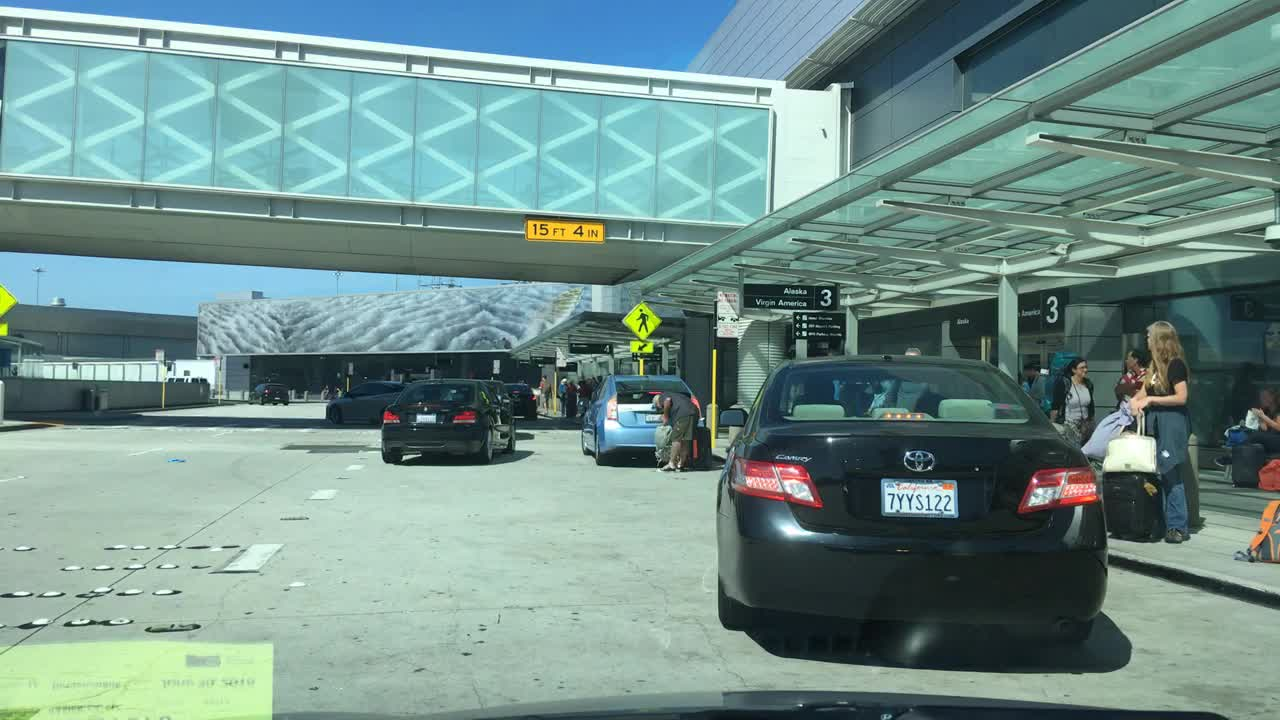car: (714, 352, 1104, 655), (380, 376, 521, 466), (576, 370, 704, 464), (323, 380, 406, 426), (503, 376, 538, 422), (242, 378, 289, 407)
person: (1123, 309, 1193, 543), (1211, 386, 1275, 463), (644, 384, 701, 469), (1057, 353, 1101, 453), (1112, 341, 1155, 421), (1014, 355, 1050, 408), (536, 369, 553, 417), (554, 374, 569, 420), (577, 375, 592, 411)
traffic sign: (742, 278, 841, 311), (521, 213, 604, 247), (793, 310, 847, 344), (617, 297, 662, 335), (0, 280, 18, 319), (627, 345, 659, 360), (151, 347, 165, 365), (0, 325, 15, 336)
